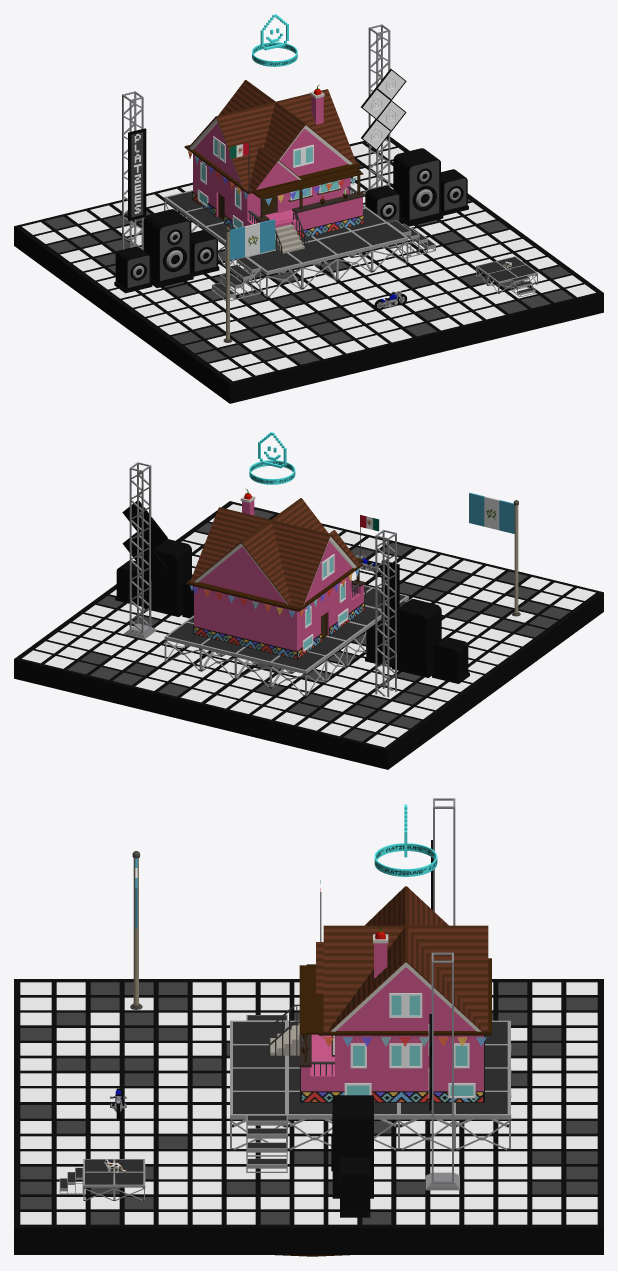
3 renders of one model, top to bottom at view 1: azimuth 30°, elevation 25°; view 2: azimuth 150°, elevation 25°; view 3: azimuth 270°, elevation 25°, orthographic. The views are drawn at different scales.
Parts seen in each view (by area): view 1: Cube.008, Cube.1005, OBJRANDOM_GUATEMALAN_FLAG, TYPE_PREMIUM; view 2: Cube.008, Cube.1005, OBJRANDOM_GUATEMALAN_FLAG, TYPE_PREMIUM; view 3: Cube.008, Cube.1005, TYPE_PREMIUM, OBJRANDOM_GUATEMALAN_FLAG.
Part boxes in pixels (<box>): Cube.008: <box>14,24,603,403</box>; Cube.1005: <box>184,80,365,254</box>; OBJRANDOM_GUATEMALAN_FLAG: <box>223,219,275,342</box>; TYPE_PREMIUM: <box>252,14,297,66</box>; Cube.008: <box>14,462,603,769</box>; Cube.1005: <box>186,488,379,659</box>; OBJRANDOM_GUATEMALAN_FLAG: <box>469,493,520,616</box>; TYPE_PREMIUM: <box>249,432,295,484</box>; Cube.008: <box>14,798,603,1254</box>; Cube.1005: <box>268,880,491,1102</box>; TYPE_PREMIUM: <box>374,804,437,876</box>; OBJRANDOM_GUATEMALAN_FLAG: <box>130,851,142,1009</box>.
Bounding box in the file's own units: 4000 × 2578 × 4000.
Materials: 79 (4 with a texture image).
